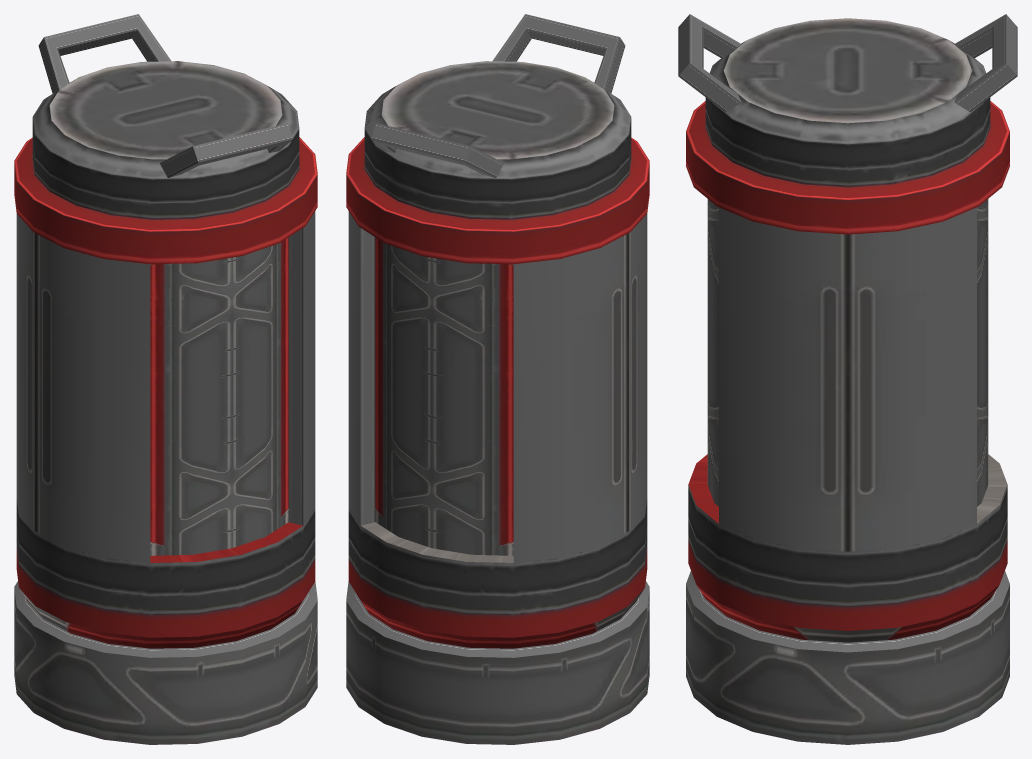
Rendered from Prop_Barrel_Large.gltf.
3 renders of one model, left to right at view 1: azimuth 30°, elevation 25°; view 2: azimuth 150°, elevation 25°; view 3: azimuth 270°, elevation 25°, orthographic. The views are drawn at different scales.
Parts seen in each view (by area): view 1: Prop_Barrel_Large; view 2: Prop_Barrel_Large; view 3: Prop_Barrel_Large.
Boxes of the visible parts, bbox=[...] form: Prop_Barrel_Large: bbox=[14, 14, 317, 744]; Prop_Barrel_Large: bbox=[346, 14, 649, 744]; Prop_Barrel_Large: bbox=[678, 14, 1017, 744].
Size of the model in its own units: 0.5078 by 1.1 by 0.532.
Materials: 2 (2 with a texture image).
